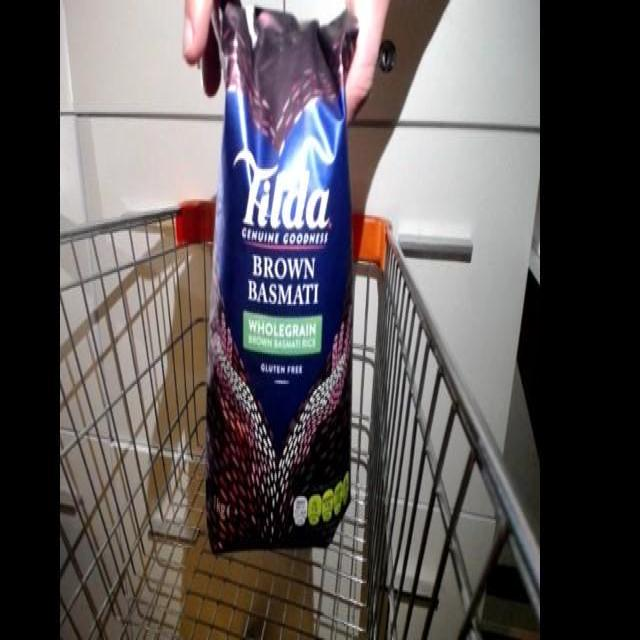Tida: (199, 12, 363, 560)
